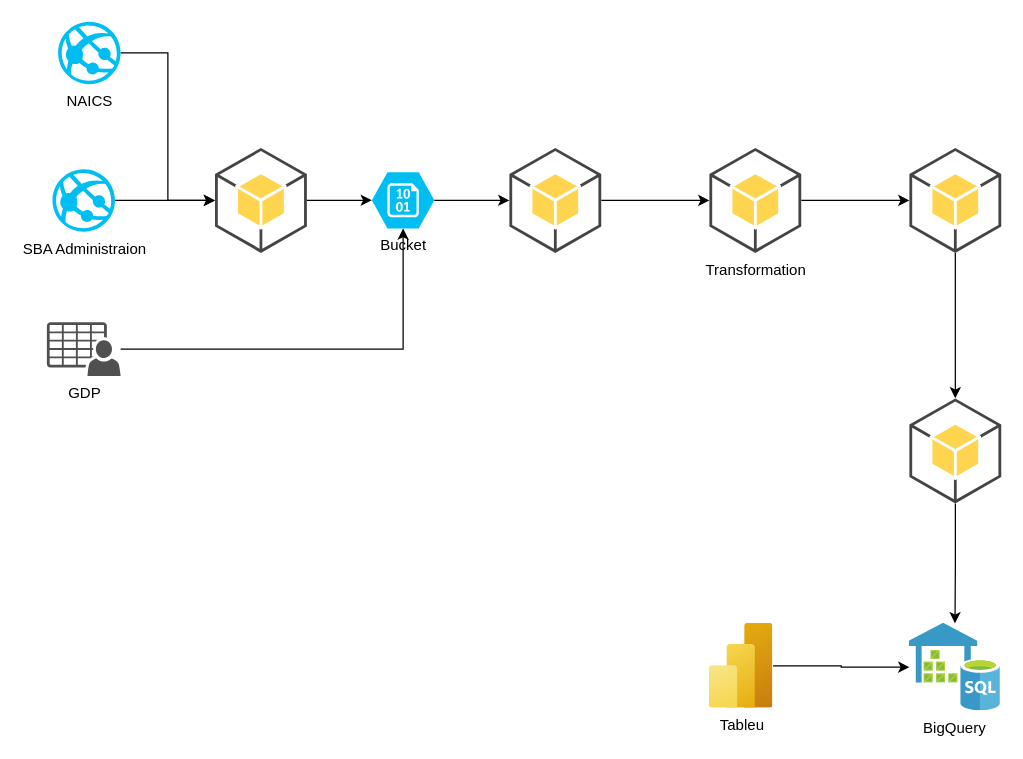
Some shapes in this 1023 by 759 pixel diagram are drawn without their labels. Here are the shapes that lost their labels. From the top down, the box of each, then its label:
(214, 147, 307, 253): Extract & Load
(508, 147, 601, 253): Cleaning & Reformatting
(908, 147, 1001, 253): Consolidation
(908, 397, 1001, 503): Loading
